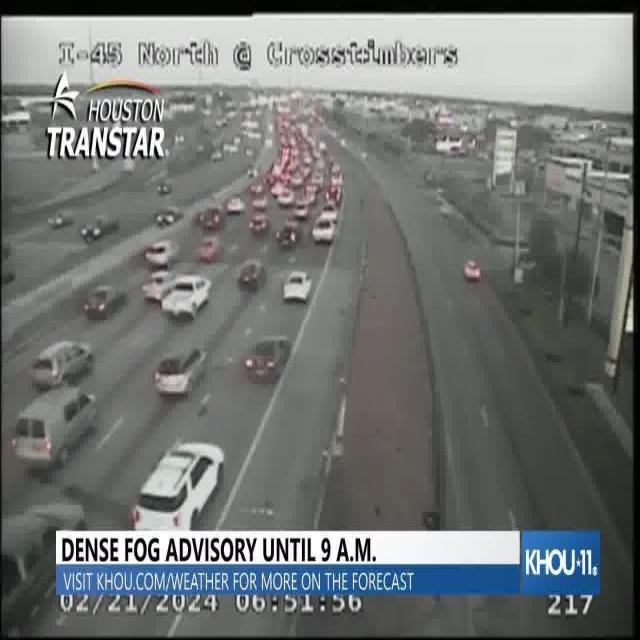Car: (1, 506, 88, 638), (135, 441, 224, 533), (32, 340, 94, 392), (153, 346, 207, 402), (246, 338, 291, 388), (163, 276, 211, 321), (83, 286, 129, 321), (143, 270, 177, 304), (144, 239, 179, 268), (283, 270, 312, 304), (240, 261, 266, 292), (198, 205, 224, 233), (197, 236, 222, 262), (312, 219, 333, 244), (464, 258, 481, 286), (293, 198, 310, 218)
Van: (11, 388, 98, 473)
